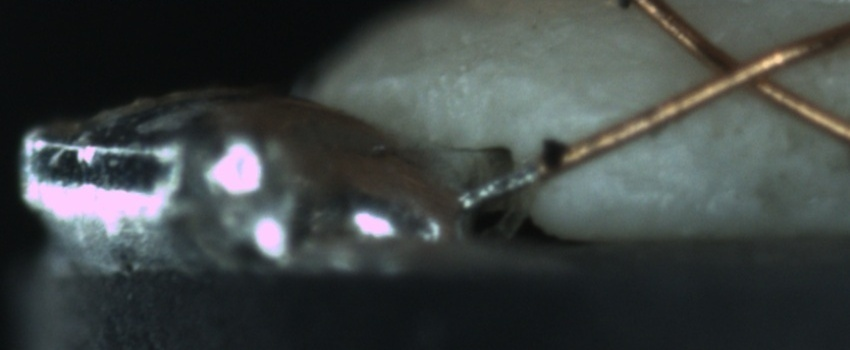CL: (687, 34, 800, 105)
TS: (462, 163, 543, 207)
